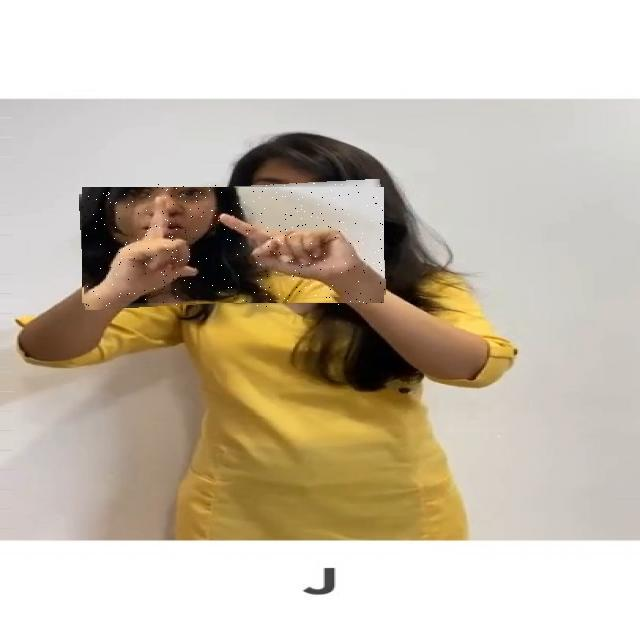J: (81, 183, 385, 307)
